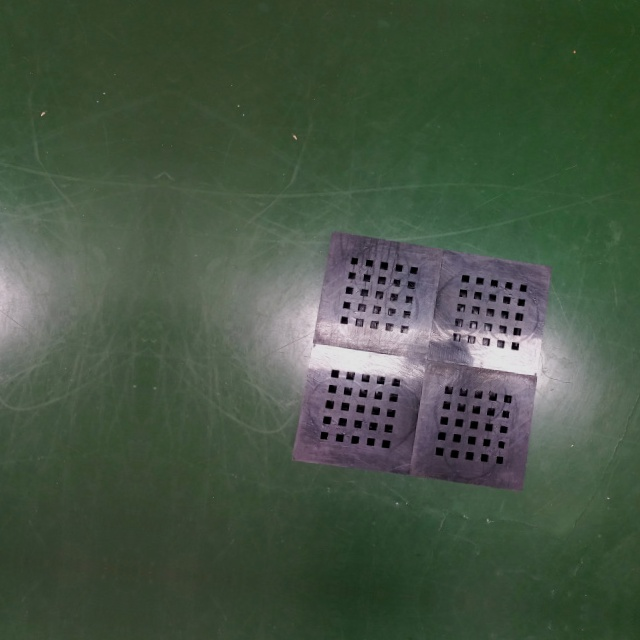pallet: (286, 226, 558, 500)
